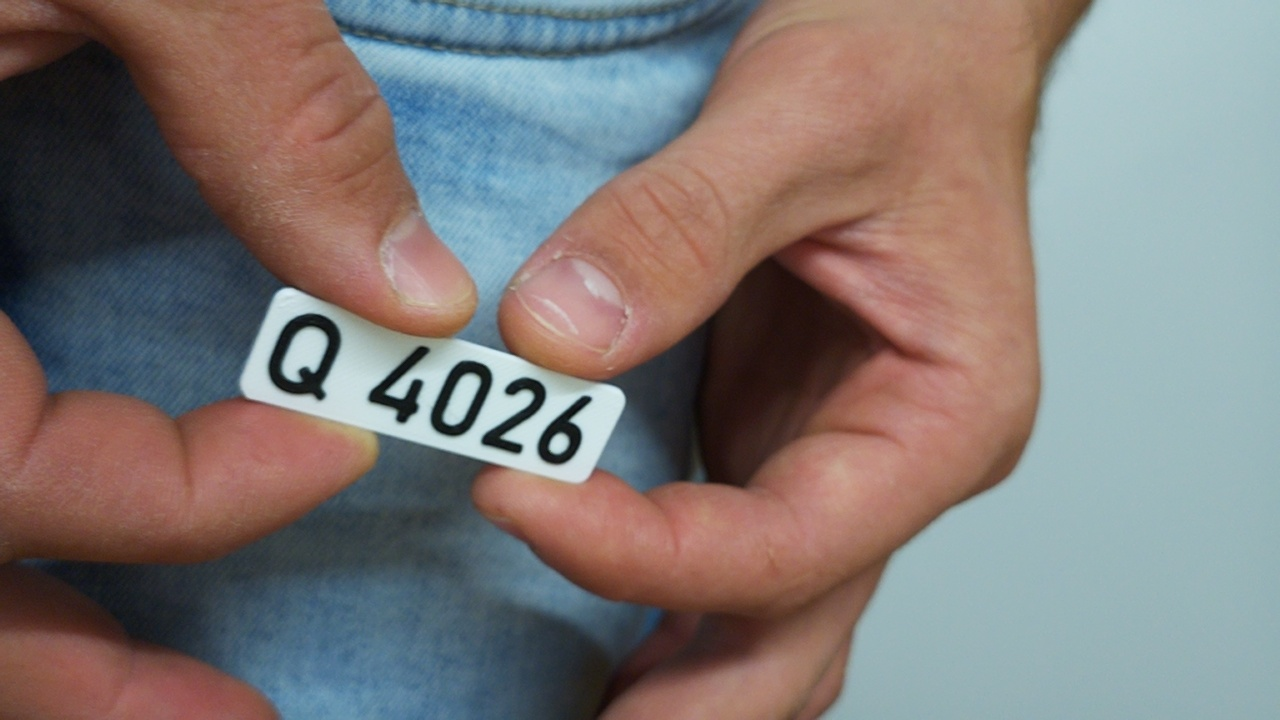license_plate: (239, 281, 630, 485)
